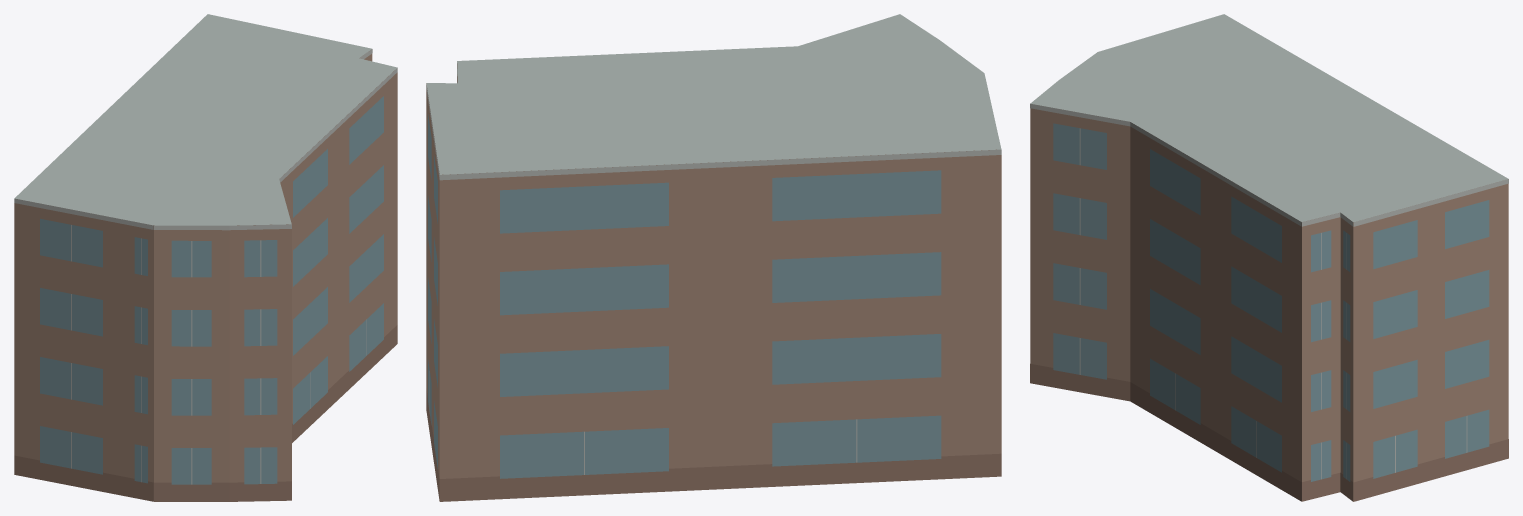
Rendered from survey-upis-32616623.glb.
3 views of the same model, side by side, from view 1: azimuth 30°, elevation 25°; view 2: azimuth 150°, elevation 25°; view 3: azimuth 270°, elevation 25° (orthographic). The views are drawn at different scales.
Parts seen in each view (by area): view 1: survey-upis-32616623.tmp; view 2: survey-upis-32616623.tmp; view 3: survey-upis-32616623.tmp.
Boxes of the visible parts, left/top/right/bottom form: survey-upis-32616623.tmp: left=14, top=14, right=397, bottom=501; survey-upis-32616623.tmp: left=426, top=14, right=1001, bottom=501; survey-upis-32616623.tmp: left=1030, top=14, right=1508, bottom=501.
Size of the model in its own units: 23.67 by 14.8 by 22.98.
